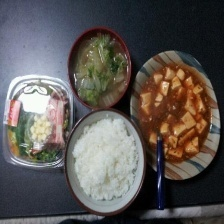sabzi: (136, 61, 219, 167)
